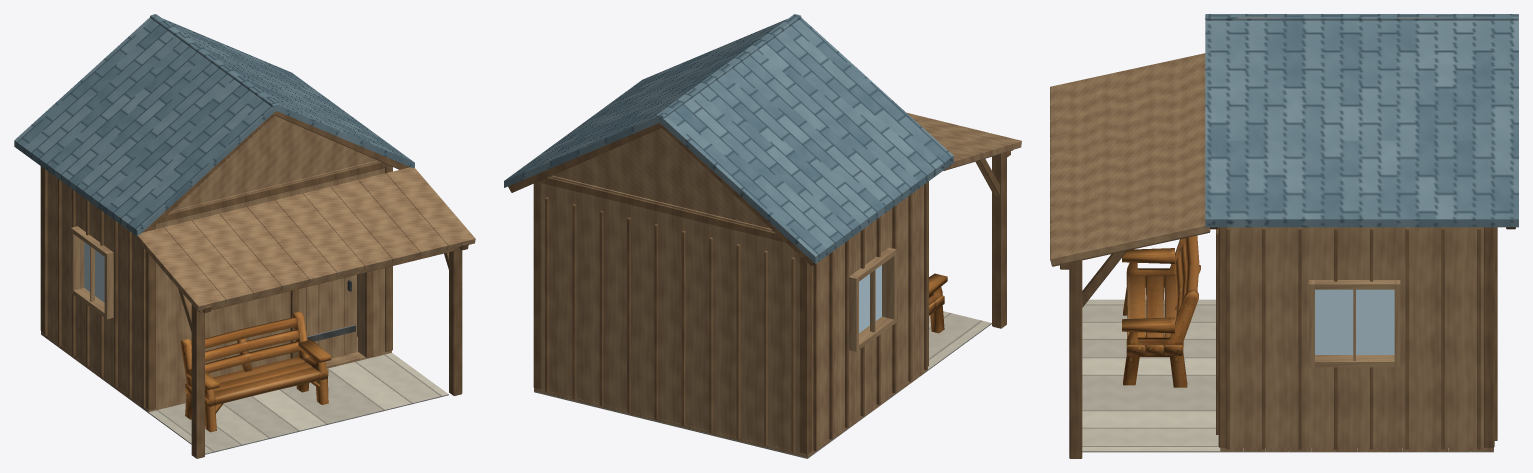
The model's file is Furn_Beach_Hut.fbx.
The picture shows the model from 3 angles, left to right: view 1: azimuth 30°, elevation 25°; view 2: azimuth 150°, elevation 25°; view 3: azimuth 270°, elevation 25°; orthographic projection. The views are drawn at different scales.
Visible parts, largest first — view 1: Roof, Body, Bench_Outside, Door_Leaf_1, Window_Frame, Window_Glass; view 2: Body, Roof, Window_Frame, Window_Glass, Bench_Outside; view 3: Roof, Body, Bench_Outside, Window_Glass, Window_Frame.
Boxes of the visible parts, x1,y1,x2,y2 form: Roof: (14, 14, 475, 313); Body: (40, 160, 462, 458); Bench_Outside: (180, 311, 331, 432); Door_Leaf_1: (299, 275, 356, 357); Window_Frame: (71, 226, 113, 319); Window_Glass: (84, 242, 104, 302); Body: (533, 152, 1006, 458); Roof: (504, 14, 1021, 265); Window_Frame: (849, 247, 896, 351); Window_Glass: (859, 265, 881, 332); Bench_Outside: (929, 273, 947, 333); Roof: (1050, 14, 1518, 269); Body: (1069, 227, 1497, 458); Bench_Outside: (1122, 235, 1200, 387); Window_Glass: (1315, 289, 1394, 354); Window_Frame: (1309, 280, 1400, 367).
Size of the model in its own units: 4.1 by 4 by 4.71.
3 materials, 2 textured.
